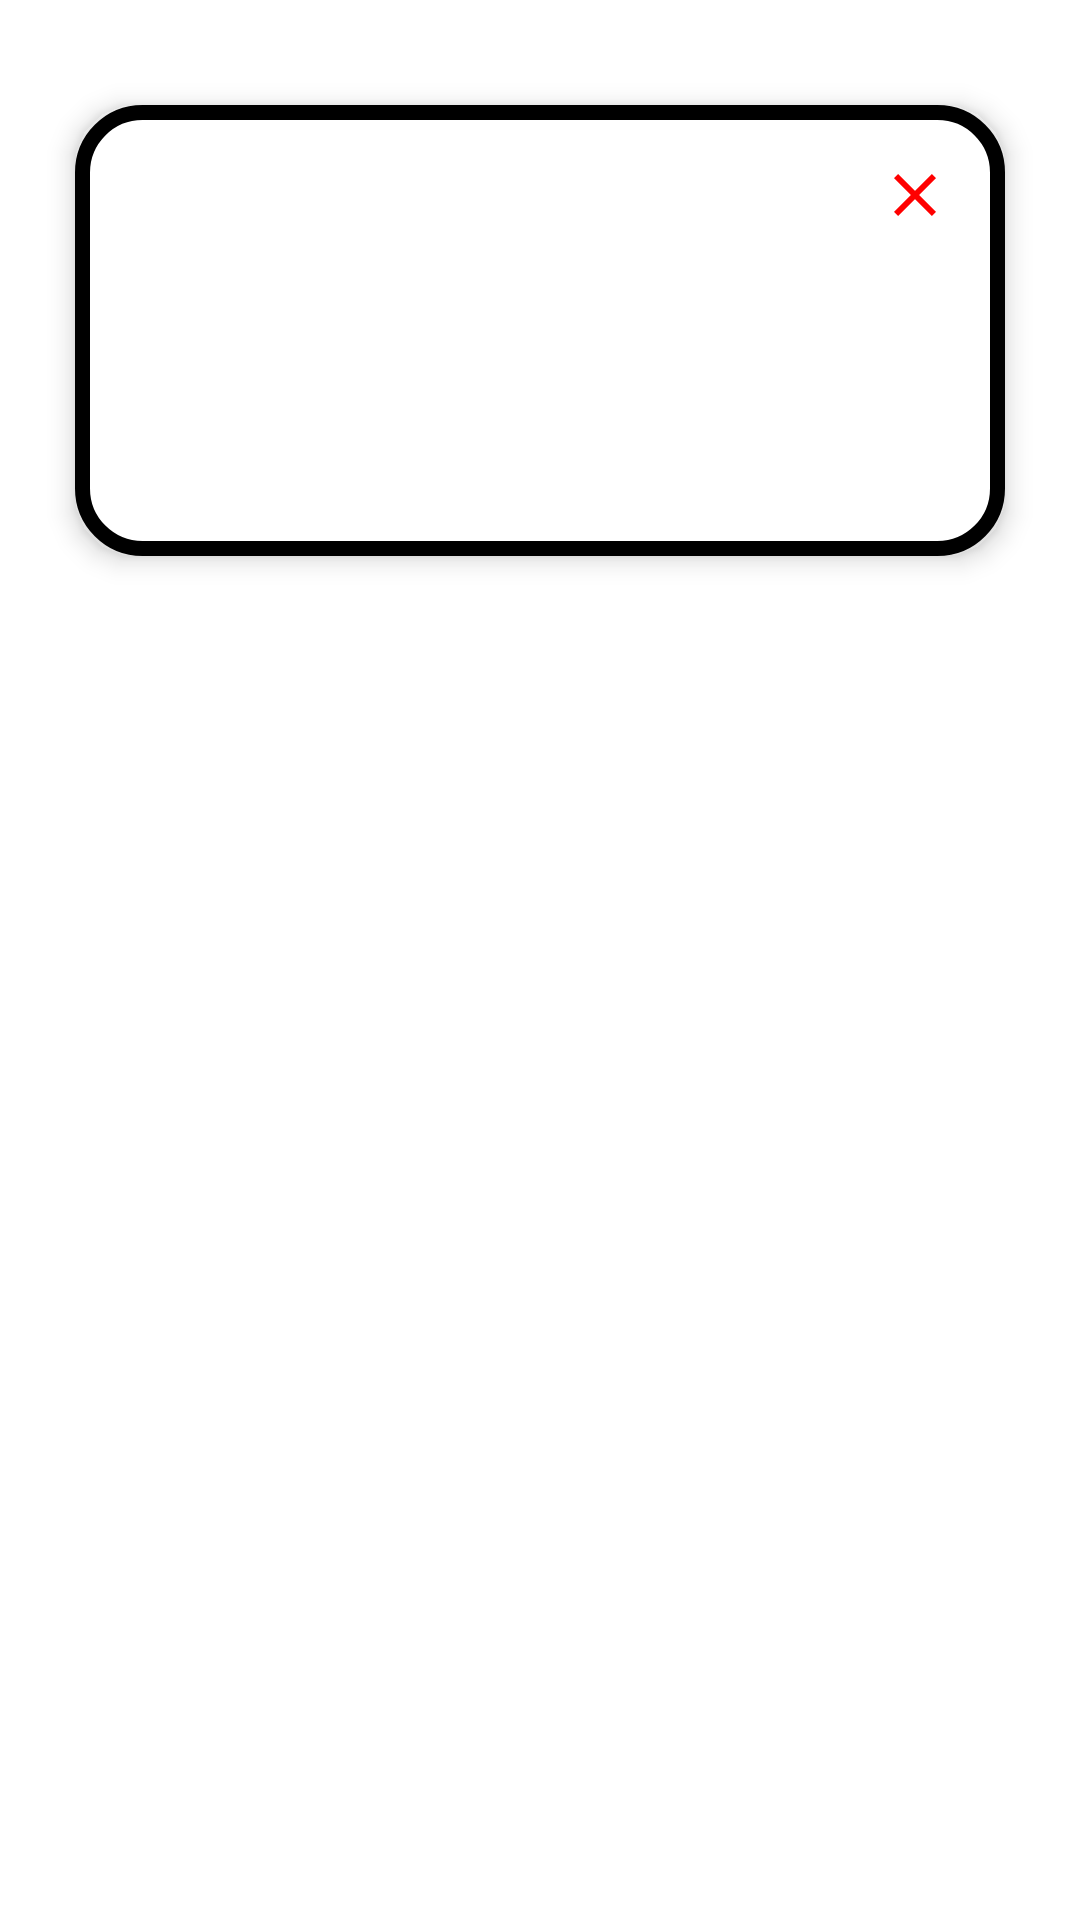

Named icons in this screenshot (1080x1920) and their centers, [x,y]:
close: [915,195]
